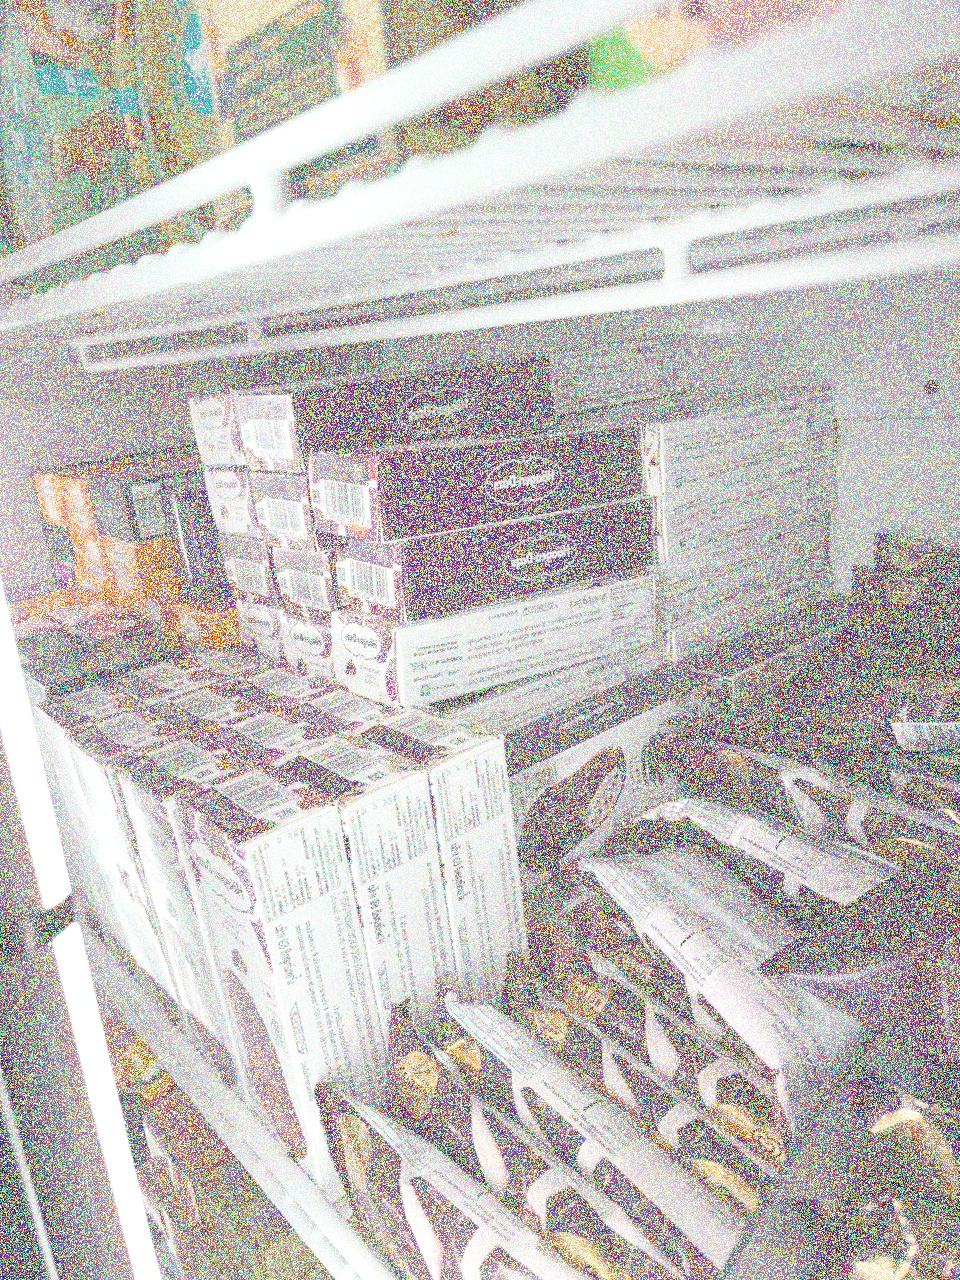Haagen-Dazs IceCream Bars: (187, 777, 390, 1177), (289, 722, 551, 1018), (106, 739, 277, 1073), (311, 412, 645, 536), (335, 508, 677, 627), (244, 353, 566, 473), (332, 613, 668, 711), (161, 397, 266, 464), (281, 527, 349, 617), (214, 535, 285, 604), (253, 469, 311, 543), (207, 467, 259, 541), (229, 602, 296, 654), (281, 613, 333, 679)
